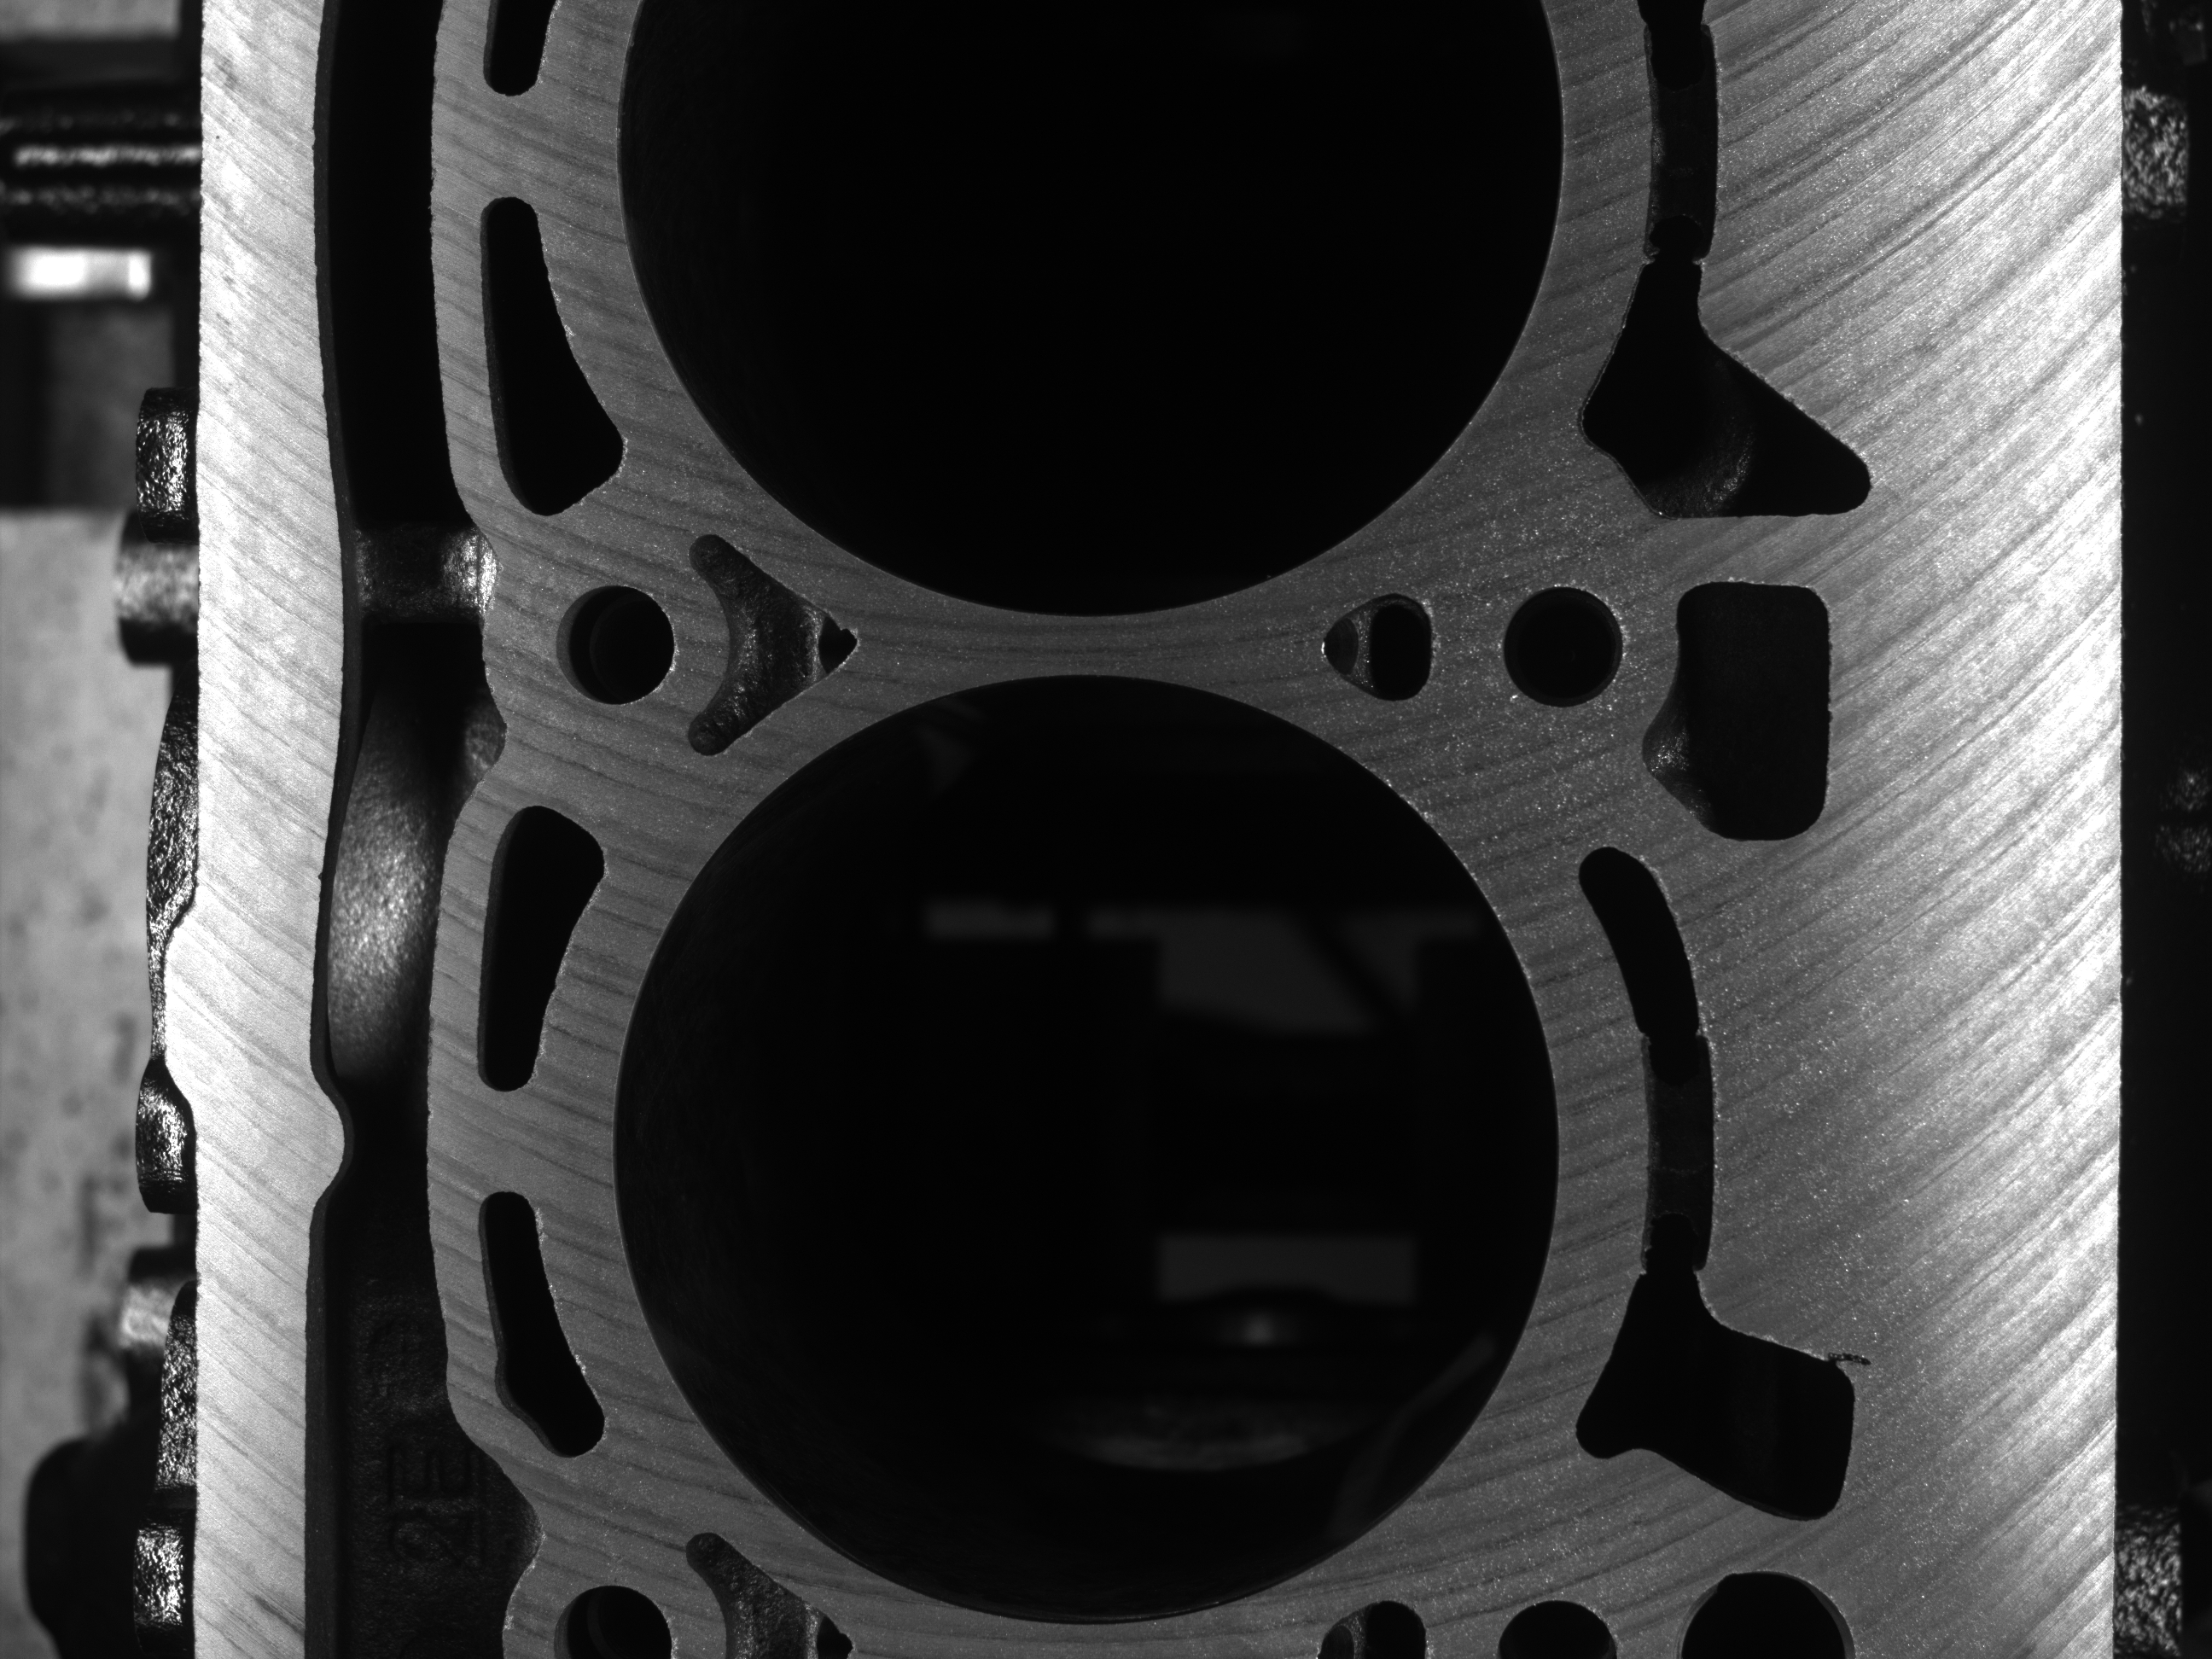crackle: (1818, 1338, 1881, 1371)
